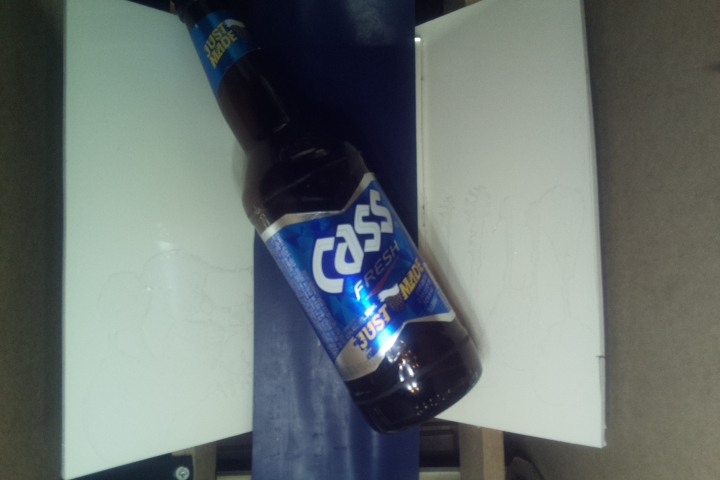makju: (175, 1, 488, 434)
